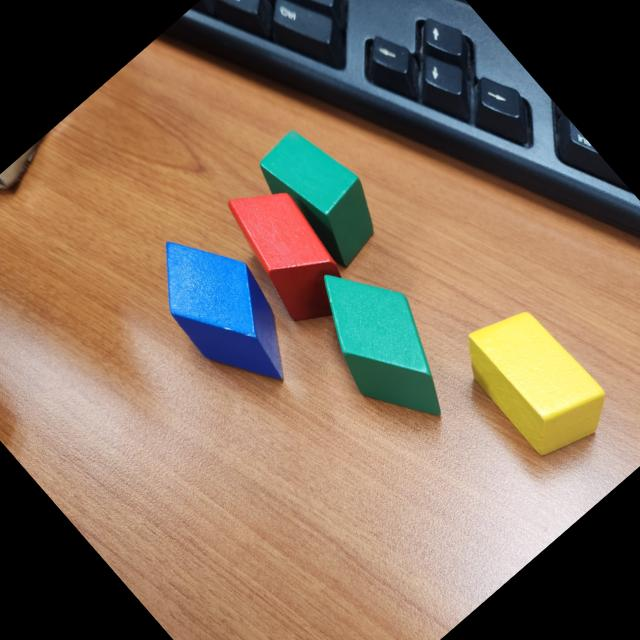blue: (130, 210, 321, 410)
green: (284, 242, 482, 447), (248, 116, 398, 272)
red: (206, 166, 370, 338)
yellow: (448, 288, 624, 470)
